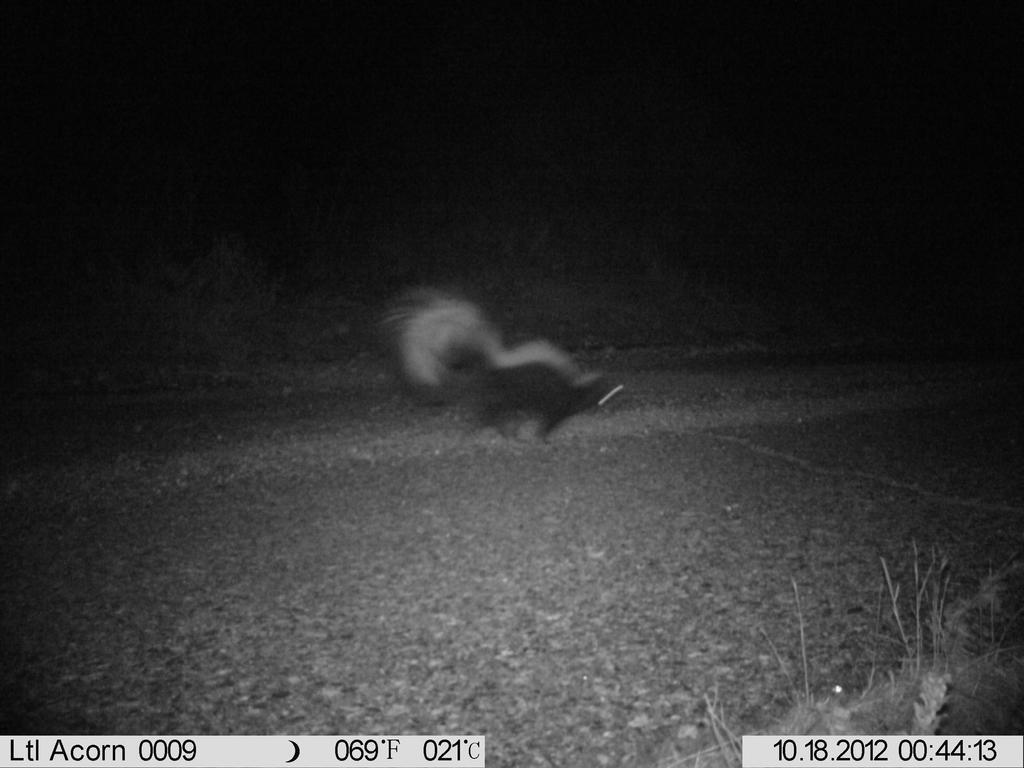skunk: (370, 271, 642, 453)
